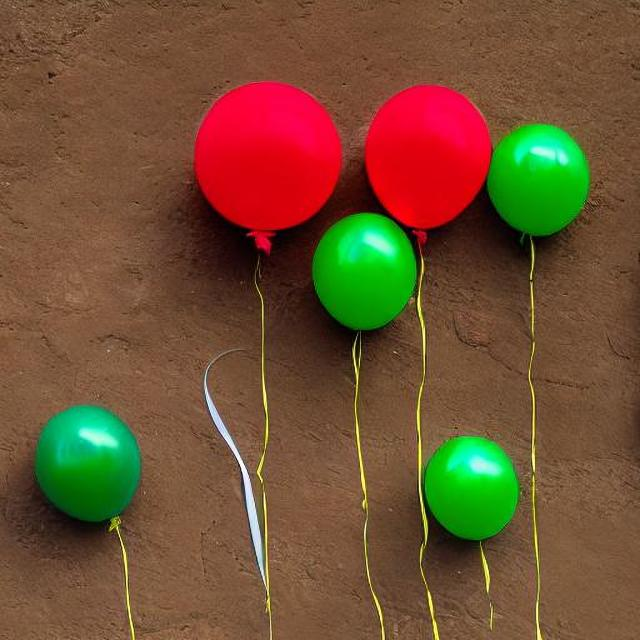balloon: (182, 80, 344, 290), (358, 71, 492, 231), (25, 398, 145, 529), (310, 201, 414, 341), (474, 120, 596, 238), (417, 431, 521, 547)
